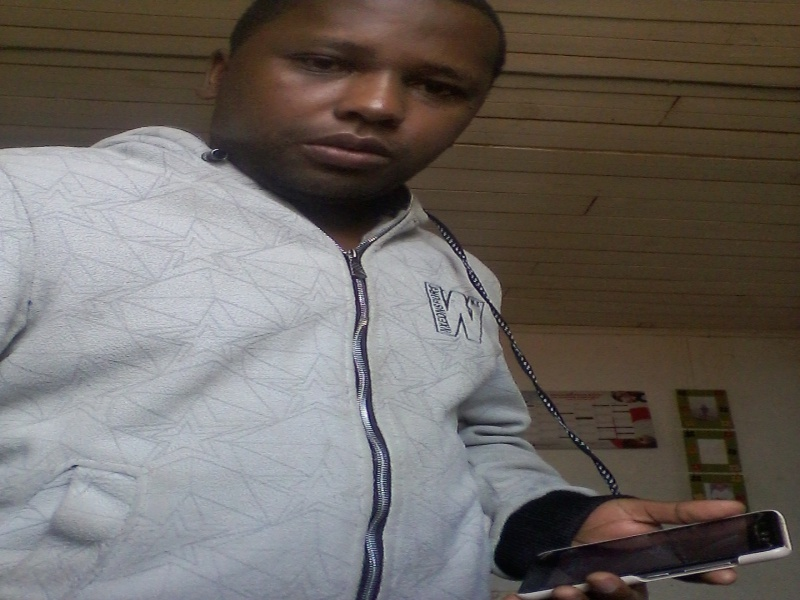TsisyArotava: (222, 19, 499, 212)
